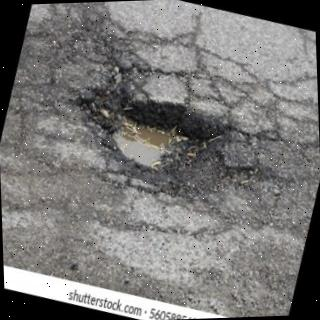pothole: (71, 83, 262, 209)
